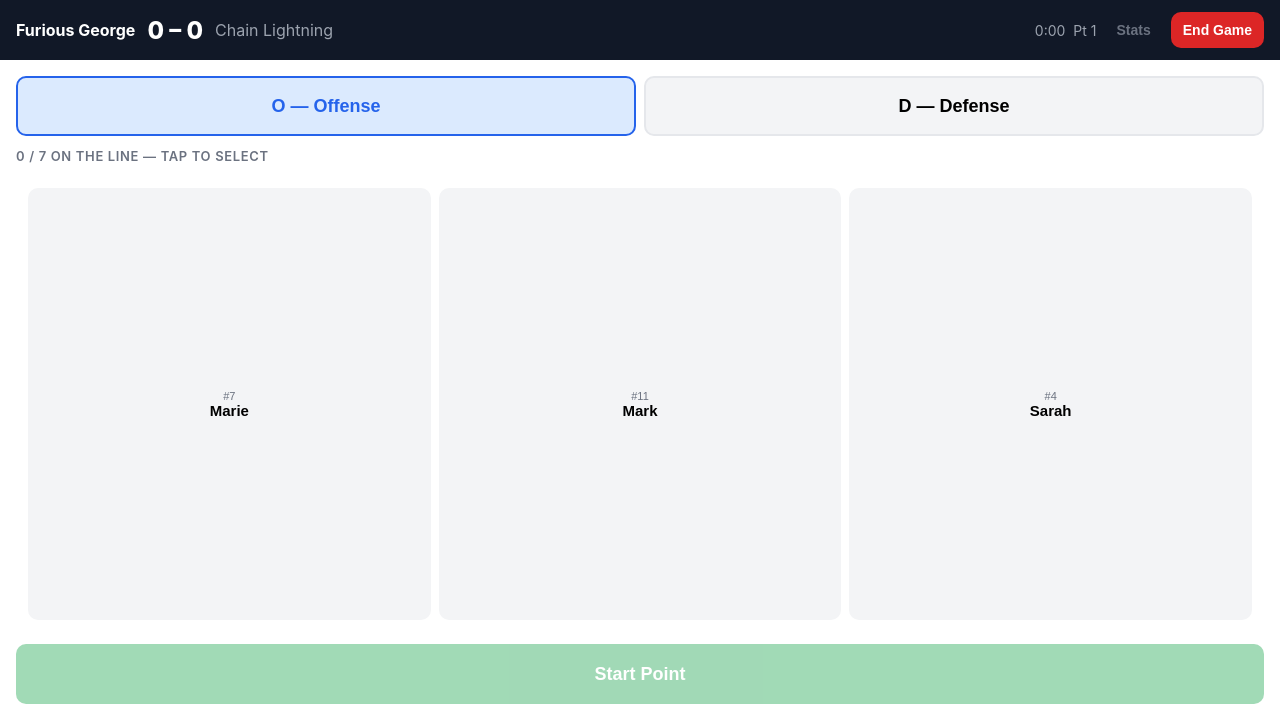
Test: GamePage — playing phase › shows flash message when action tapped without selecting a player
Click the button "#7 Marie" at coordinates (229, 404), box [28,188,431,620]
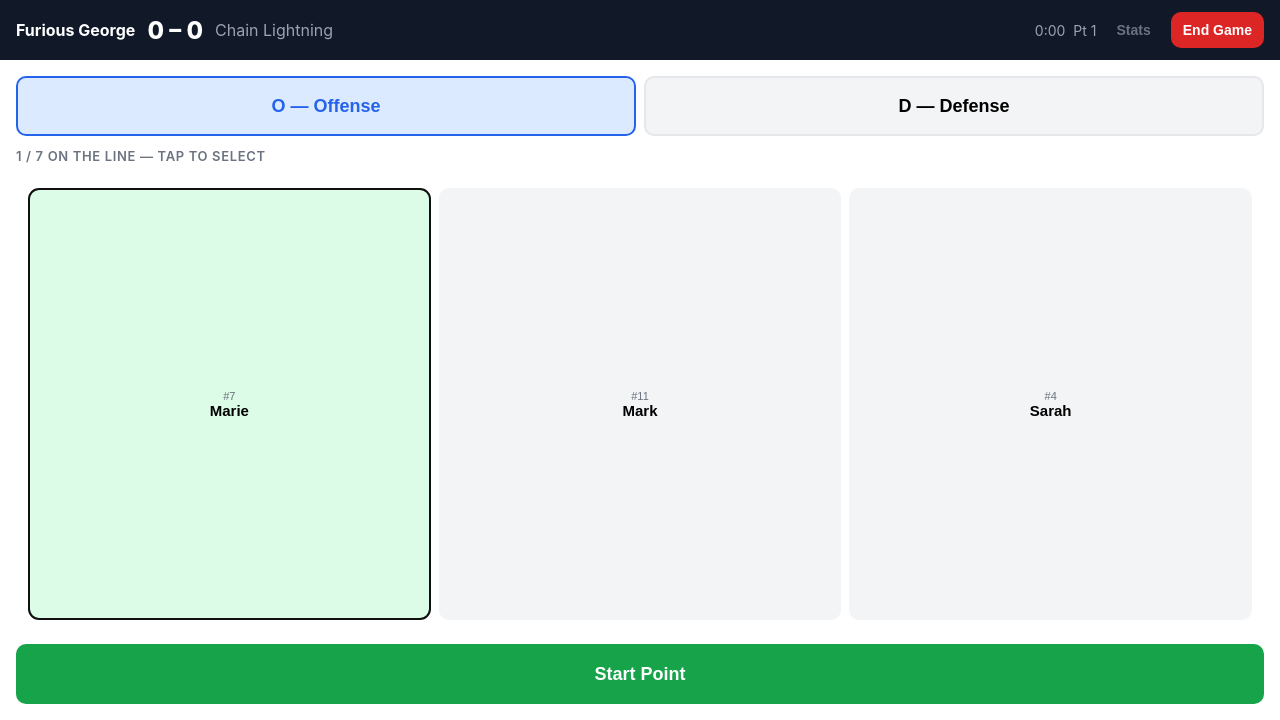
Click the button "Start Point" at coordinates (640, 674), box [16,644,1264,704]
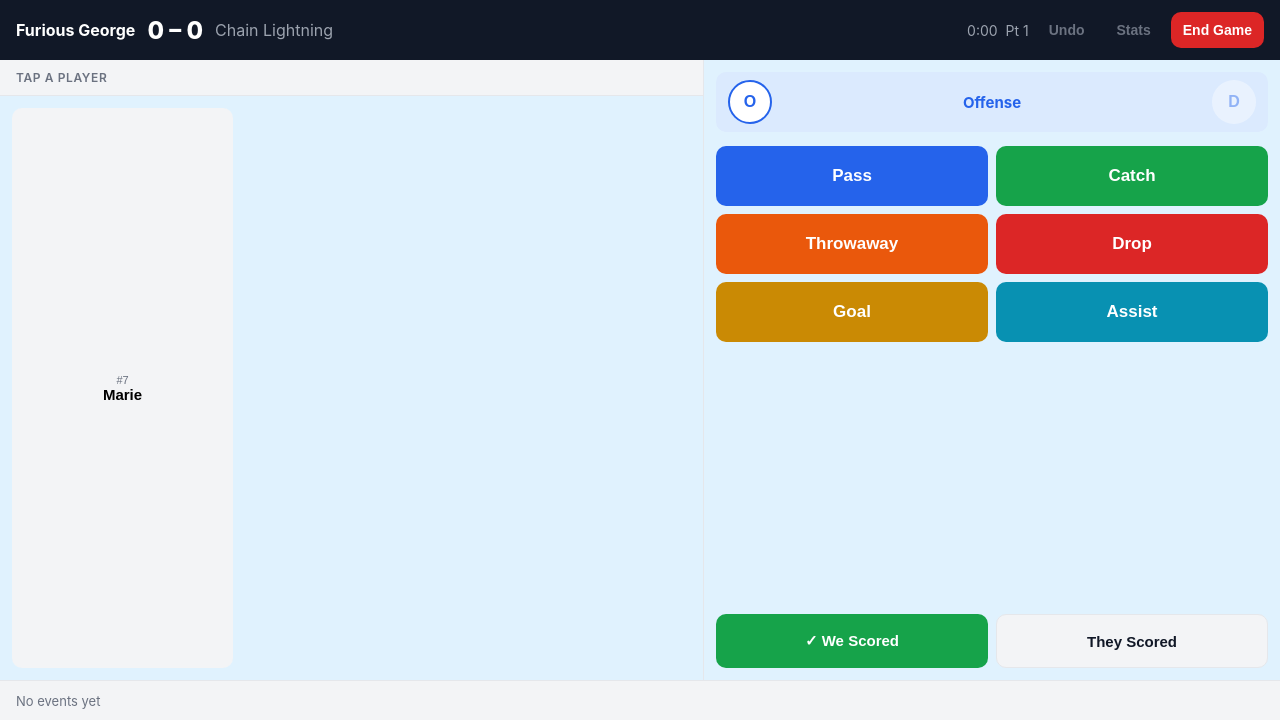
Click the button "Pass" at coordinates (852, 176), box [716,146,988,206]
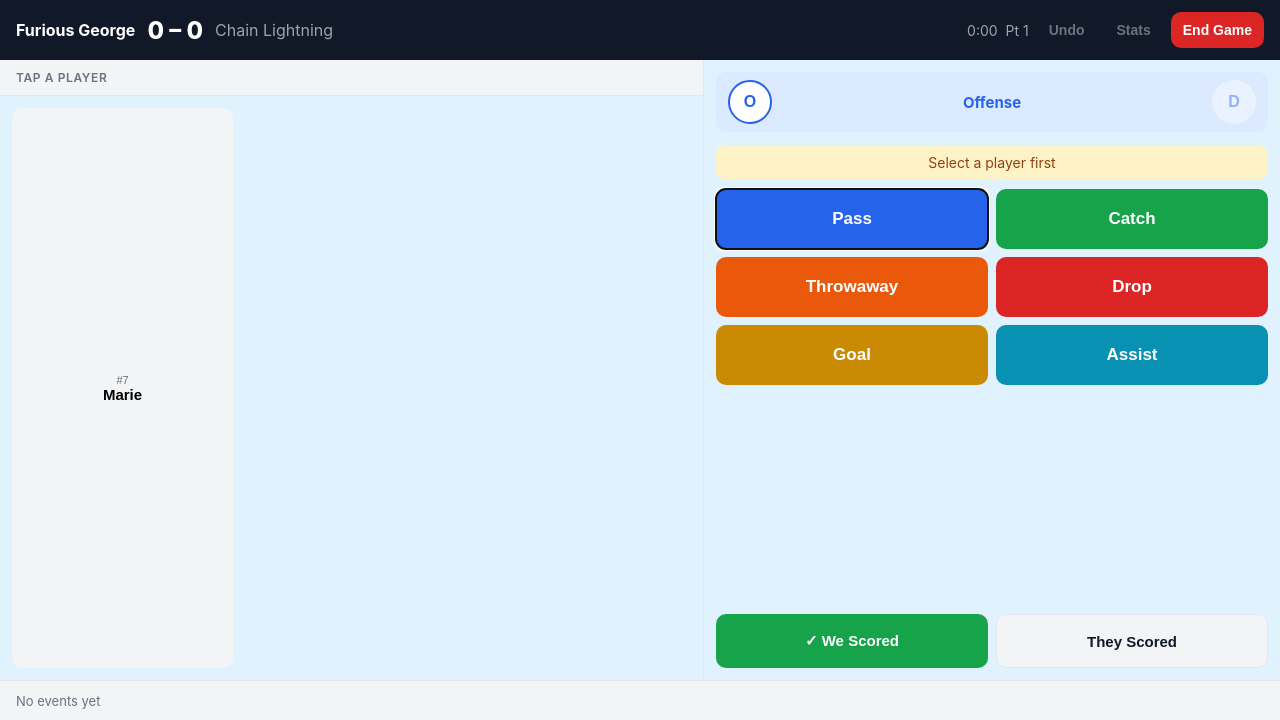
Result: the text "Select a player first" is shown at [716,146,1268,179]
